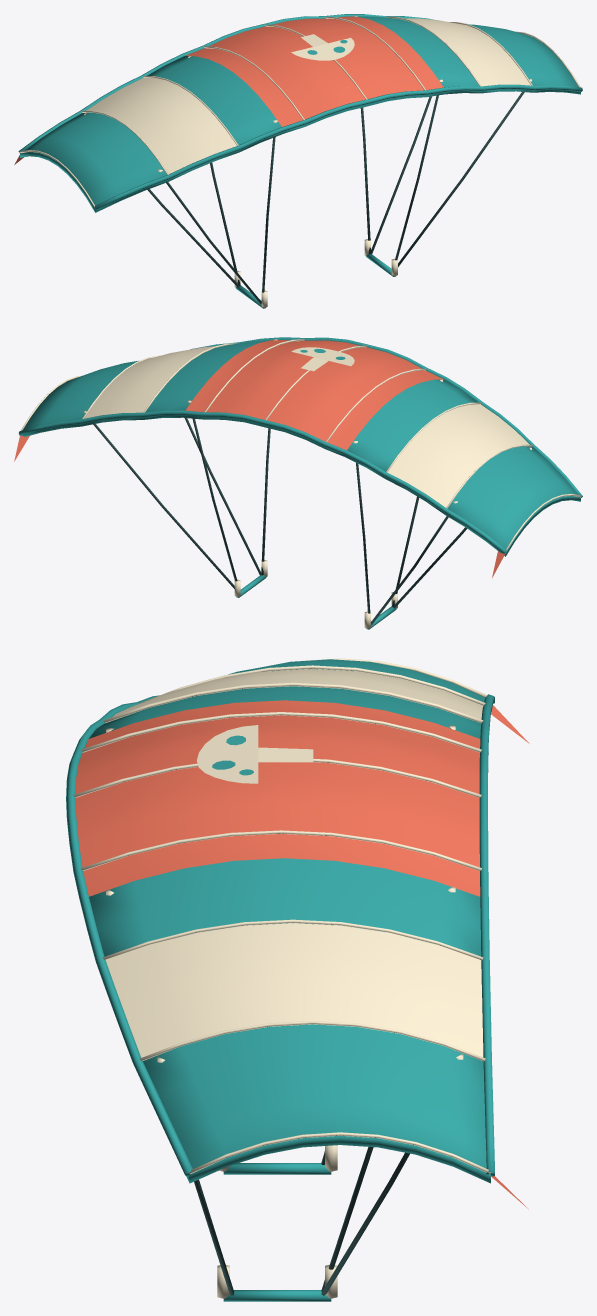
File: glider.glb
3 views of the same model, one above another, from view 1: azimuth 30°, elevation 25°; view 2: azimuth 150°, elevation 25°; view 3: azimuth 270°, elevation 25° (orthographic). The views are drawn at different scales.
Visible parts, largest first — view 1: GliderTrim_Geometry, GliderPaint_Geometry, GliderCream_Geometry, GliderRope_Geometry; view 2: GliderTrim_Geometry, GliderPaint_Geometry, GliderCream_Geometry, GliderRope_Geometry; view 3: GliderTrim_Geometry, GliderPaint_Geometry, GliderCream_Geometry, GliderRope_Geometry.
Boxes of the visible parts, x1,y1,x2,y2 form: GliderTrim_Geometry: (18, 14, 582, 308); GliderPaint_Geometry: (14, 16, 443, 164); GliderCream_Geometry: (19, 15, 580, 307); GliderRope_Geometry: (147, 92, 524, 304); GliderTrim_Geometry: (18, 337, 582, 629); GliderPaint_Geometry: (14, 340, 505, 577); GliderCream_Geometry: (20, 339, 581, 628); GliderRope_Geometry: (93, 418, 466, 625); GliderTrim_Geometry: (66, 659, 494, 1301); GliderPaint_Geometry: (75, 700, 529, 1209); GliderCream_Geometry: (72, 658, 491, 1298); GliderRope_Geometry: (194, 1147, 409, 1295).
Bounding box in the file's own units: 5.02 × 2.38 × 2.07.
